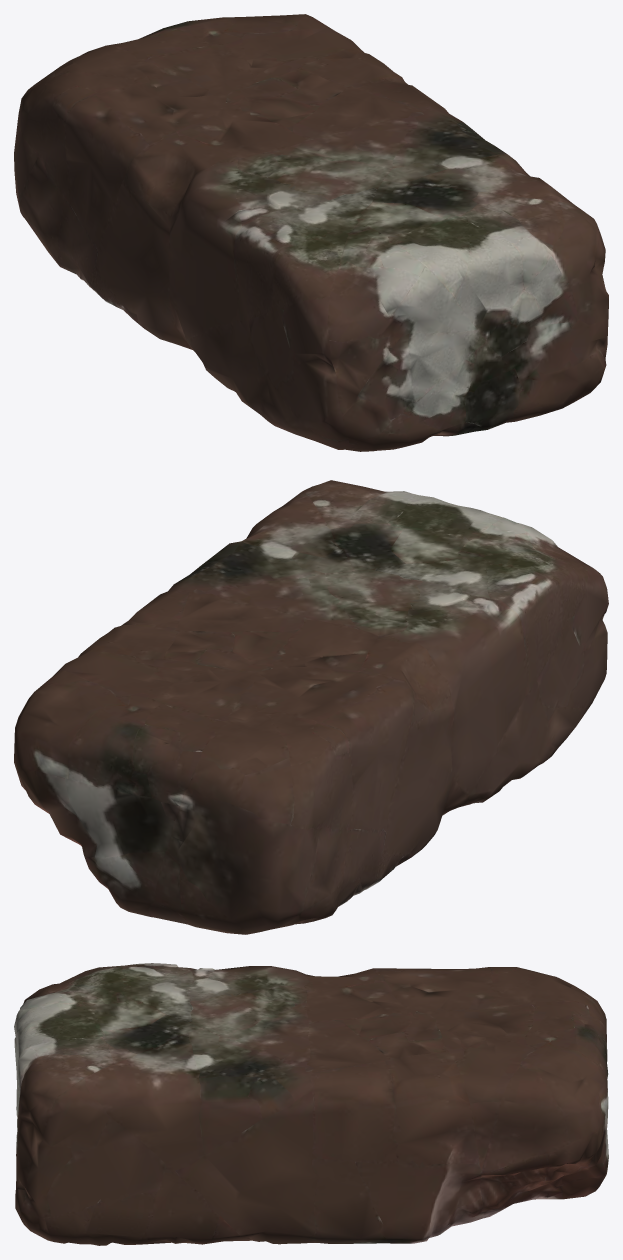
File: brick.ae689e8c.glb
3 views of the same model, one above another, from view 1: azimuth 30°, elevation 25°; view 2: azimuth 150°, elevation 25°; view 3: azimuth 270°, elevation 25° (orthographic). The views are drawn at different scales.
Visible parts, largest first — view 1: item; view 2: item; view 3: item.
Boxes of the visible parts, left/top/right/bottom form: item: left=14, top=14, right=608, bottom=451; item: left=14, top=480, right=608, bottom=934; item: left=14, top=963, right=608, bottom=1245.
Size of the model in its own units: 0.1133 by 0.0692 by 0.22.
Materials: 1 (1 with a texture image).
